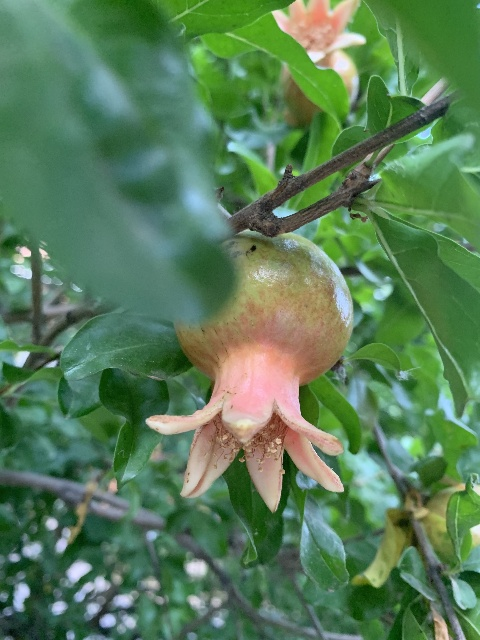early-fruit: (146, 234, 353, 514), (272, 0, 366, 118)
